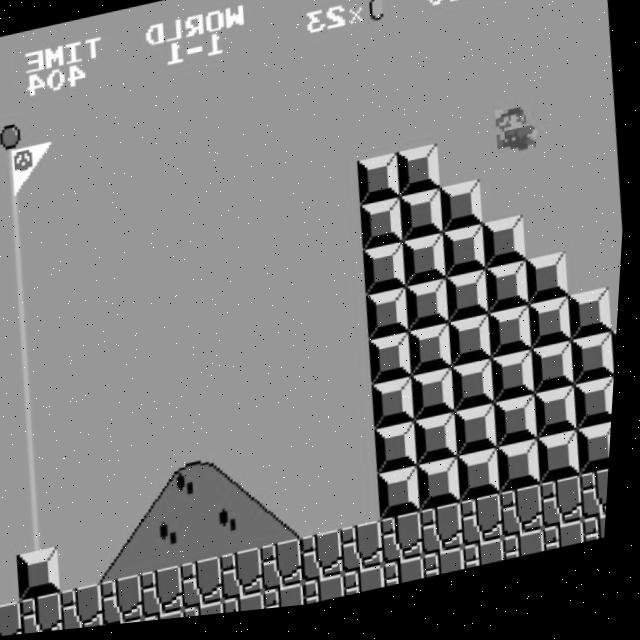11- little_mario: (494, 109, 546, 167)
17- undestructible_block: (224, 552, 273, 607), (144, 568, 193, 623), (384, 520, 433, 574), (304, 536, 353, 590), (544, 487, 592, 542), (504, 495, 552, 550), (464, 503, 512, 558), (424, 511, 472, 566), (344, 528, 392, 583), (264, 544, 312, 599), (185, 560, 233, 615), (104, 576, 152, 629), (64, 585, 112, 632), (25, 593, 73, 636), (584, 480, 615, 533), (508, 540, 553, 572), (469, 548, 513, 580), (389, 564, 433, 596), (428, 557, 473, 588), (549, 532, 593, 563), (349, 573, 393, 604), (309, 581, 353, 612), (269, 589, 313, 616), (3, 601, 32, 637), (229, 596, 273, 619), (588, 526, 613, 556), (189, 605, 233, 622), (150, 613, 194, 625)
7- goal_pole: (0, 278, 49, 333), (7, 368, 56, 422), (4, 323, 52, 378), (11, 413, 59, 467), (15, 458, 63, 512), (18, 503, 66, 557), (0, 233, 45, 287), (0, 189, 42, 243), (0, 142, 38, 197), (0, 98, 34, 152)
9- hard_block: (500, 450, 549, 505), (439, 189, 488, 244), (443, 233, 492, 288), (460, 458, 509, 513), (417, 421, 466, 476), (363, 250, 412, 305), (370, 340, 419, 395), (380, 474, 429, 529), (21, 547, 70, 602), (573, 344, 622, 398), (526, 262, 575, 316), (533, 352, 582, 406), (540, 442, 589, 496), (493, 361, 542, 415), (396, 152, 445, 206), (570, 299, 618, 354), (530, 307, 578, 362), (537, 397, 585, 452), (490, 315, 538, 370), (497, 405, 545, 460), (450, 323, 498, 378), (400, 197, 448, 252), (421, 466, 469, 521), (360, 205, 408, 260), (486, 271, 535, 324), (483, 226, 531, 280), (447, 279, 495, 333), (454, 368, 502, 422), (457, 414, 505, 468), (403, 242, 451, 296), (410, 332, 458, 386), (356, 160, 404, 214), (367, 295, 415, 349), (374, 385, 422, 439), (377, 430, 425, 484), (407, 287, 455, 340), (414, 377, 462, 430), (576, 389, 619, 443), (580, 435, 617, 489), (614, 342, 622, 389)
